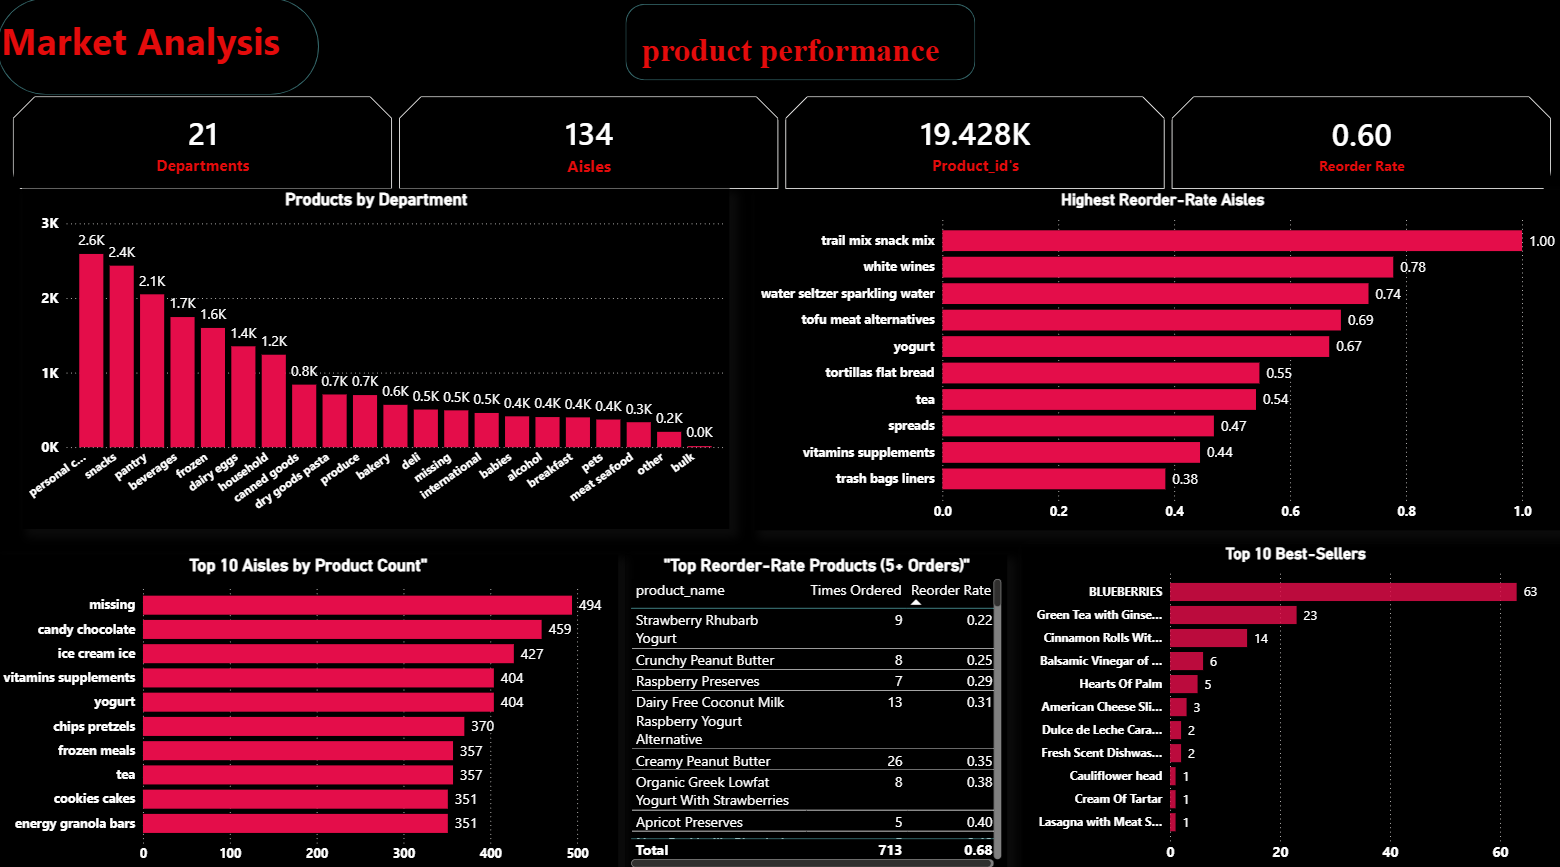

Layout of this report page (visuals, bound fields, positions):
{"tool":"powerbi","page":{"name":"Page 1","canvas":[1800,1000],"ordinal":0},"visuals":[{"type":"cardVisual","fields":{"Data":["Count(departments.department)","Count(aisles.aisle)","Count(products_clean.product_id)","order-product_train.Reorder Rate"]},"box":[0,93.7,1799.3,142.7],"z":0},{"type":"barChart","title":"Top 10 Aisles by Product Count\"","fields":{"Category":["aisles.aisle"],"Y":["Count(products_clean.product_id)"]},"box":[0,636.2,710.9,364.1],"z":1000},{"type":"columnChart","title":" Products by Department","fields":{"Category":["departments.department"],"Y":["CountNonNull(products_clean.product_id)"]},"box":[28.7,218.5,808.7,389],"z":2000},{"type":"barChart","title":"Top 10 Best-Sellers","fields":{"Category":["products_clean.product_name"],"Y":["CountNonNull(order-product_train.order_id)"]},"box":[1172.8,624.7,626.6,375.6],"z":3000},{"type":"tableEx","title":"\"Top Reorder-Rate Products (5+ Orders)\"","fields":{"Values":["products_clean.product_name","order-product_train.Times Ordered","order-product_train.Reorder Rate"]},"box":[719.7,636.7,436.5,364.1],"z":4000},{"type":"barChart","title":"Highest Reorder-Rate Aisles","fields":{"Category":["aisles.aisle"],"Y":["order-product_train.Reorder Rate"]},"box":[866.2,220.4,933.2,389],"z":5000},{"type":"textbox","box":[0,13.4,356.4,97.7],"z":6000},{"type":"textbox","box":[732,32.6,375.6,61.3],"z":7000},{"type":"shape","box":[0,0,368.4,110.7],"z":8000},{"type":"shape","box":[719.7,6.4,400.3,87.3],"z":9000}]}

Visuals, with their boxes in screenshot pixels (x1, y1, x2, y2), scaled from the page's 1800x1000 canvas onto the 1560x867 screenshot:
cardVisual - Count(departments.department) x Count(aisles.aisle): 0:81:1559:205
"Top 10 Aisles by Product Count"" barChart: 0:552:616:866
" Products by Department" columnChart: 25:189:726:527
"Top 10 Best-Sellers" barChart: 1016:542:1559:866
""Top Reorder-Rate Products (5+ Orders)"" tableEx: 624:552:1002:866
"Highest Reorder-Rate Aisles" barChart: 751:191:1559:528
textbox: 0:12:309:96
textbox: 634:28:960:81
shape: 0:0:319:96
shape: 624:6:971:81
